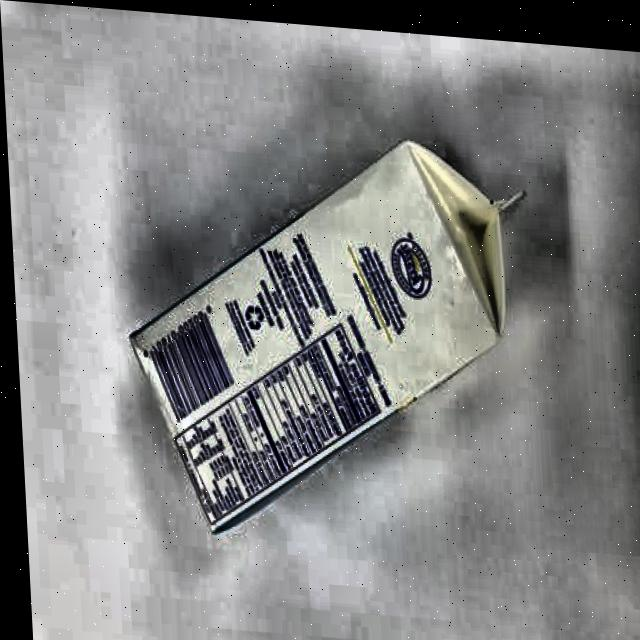paper: (119, 114, 543, 567)
